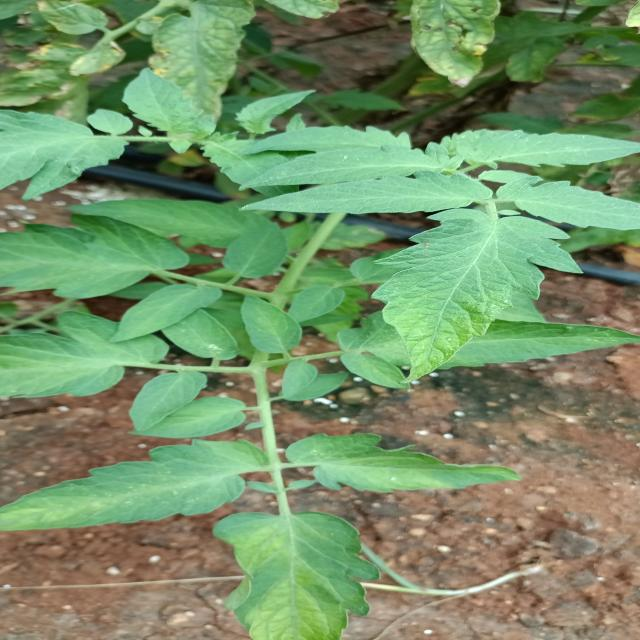Healthy Leaf: (374, 212, 559, 396), (0, 438, 256, 541), (216, 514, 386, 640), (278, 432, 536, 501), (240, 177, 490, 215), (453, 129, 640, 167), (110, 283, 220, 342), (232, 293, 310, 355), (128, 370, 211, 424), (220, 222, 293, 280), (277, 360, 314, 400)
